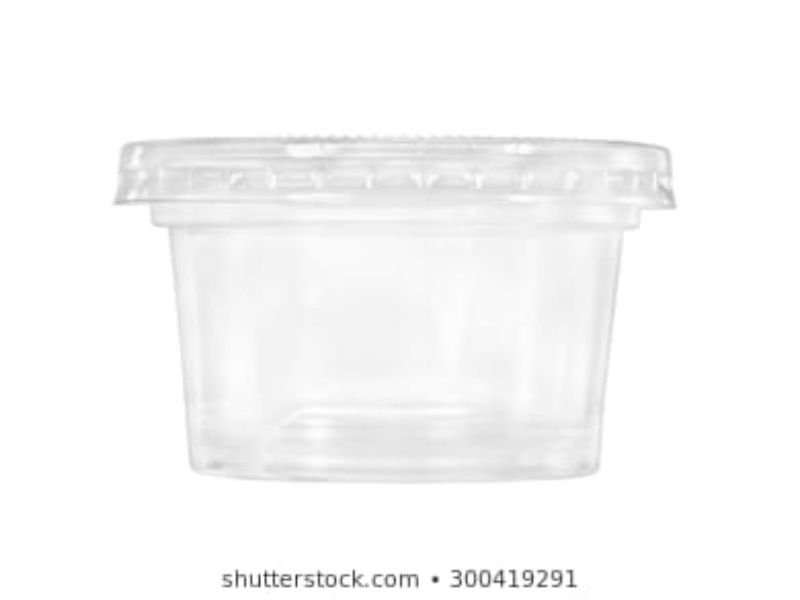plastic-container: (112, 135, 710, 486)
